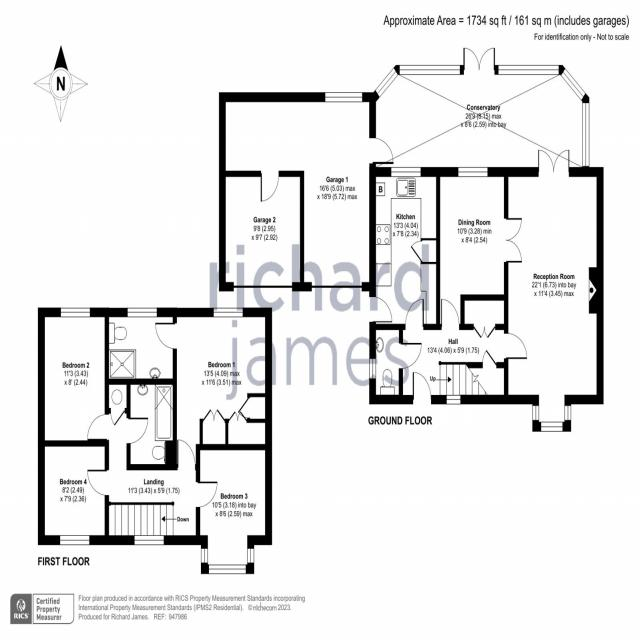DOOR: (398, 341, 423, 370), (412, 370, 432, 405), (504, 332, 528, 360), (195, 480, 219, 508), (154, 321, 177, 350), (440, 297, 460, 330), (176, 438, 196, 471), (369, 296, 393, 323), (86, 468, 109, 496), (126, 416, 149, 444), (404, 298, 424, 330), (87, 413, 109, 441)
DOUBLE DOOR: (537, 148, 570, 177), (504, 217, 523, 264)
ROOM: (504, 149, 604, 433), (154, 307, 273, 470), (435, 166, 523, 331), (369, 166, 441, 330), (195, 443, 273, 575), (37, 307, 110, 447), (37, 440, 109, 546)
WINDOW: (208, 564, 247, 574), (457, 166, 488, 178), (390, 166, 421, 178), (60, 306, 91, 318), (213, 307, 244, 318), (134, 535, 164, 546), (127, 307, 157, 318), (60, 535, 90, 545), (540, 421, 563, 432), (369, 358, 377, 380), (446, 395, 461, 405), (564, 405, 572, 421), (532, 405, 539, 421), (201, 548, 208, 564), (247, 548, 254, 564)
